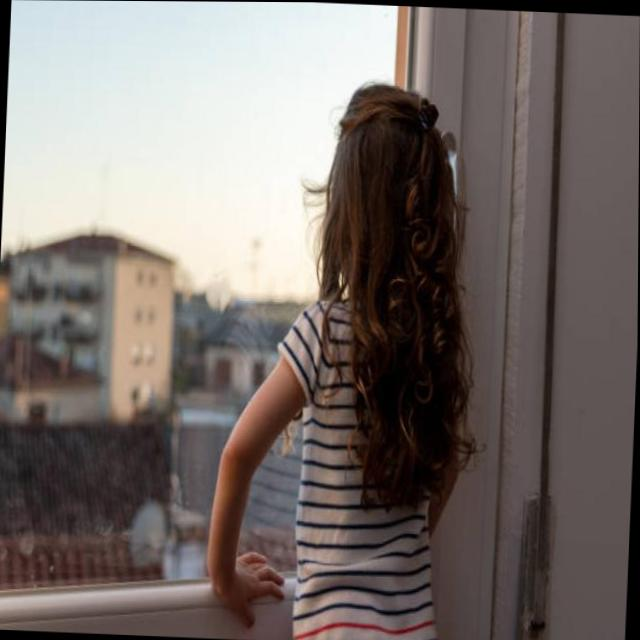no helmet: (291, 66, 466, 391)
